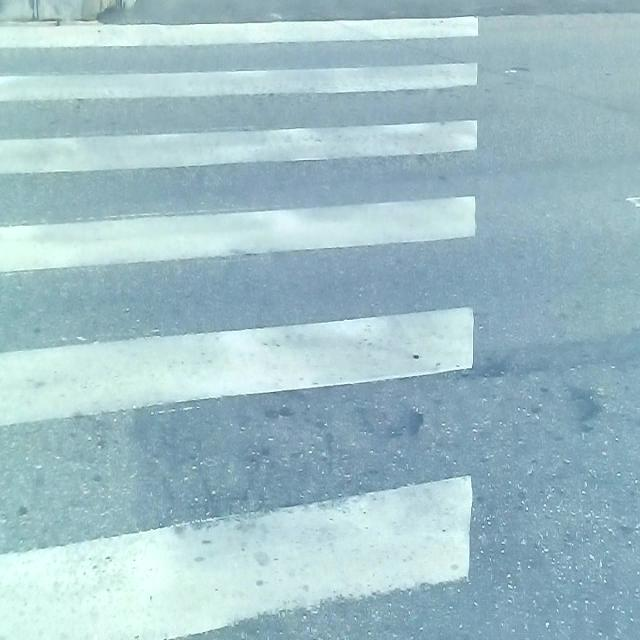crosswalk: (0, 15, 479, 640)
